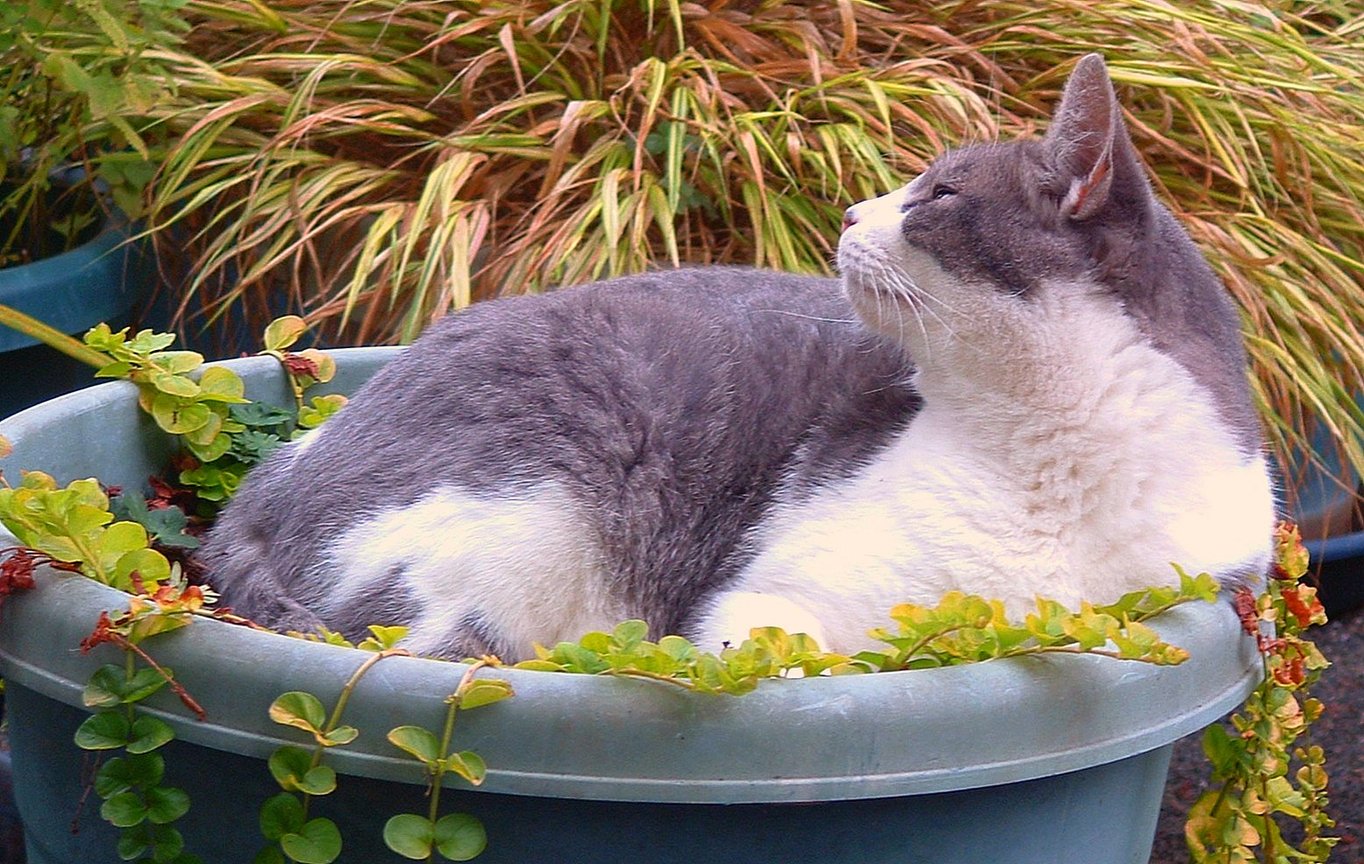cat: (185, 53, 1273, 656)
